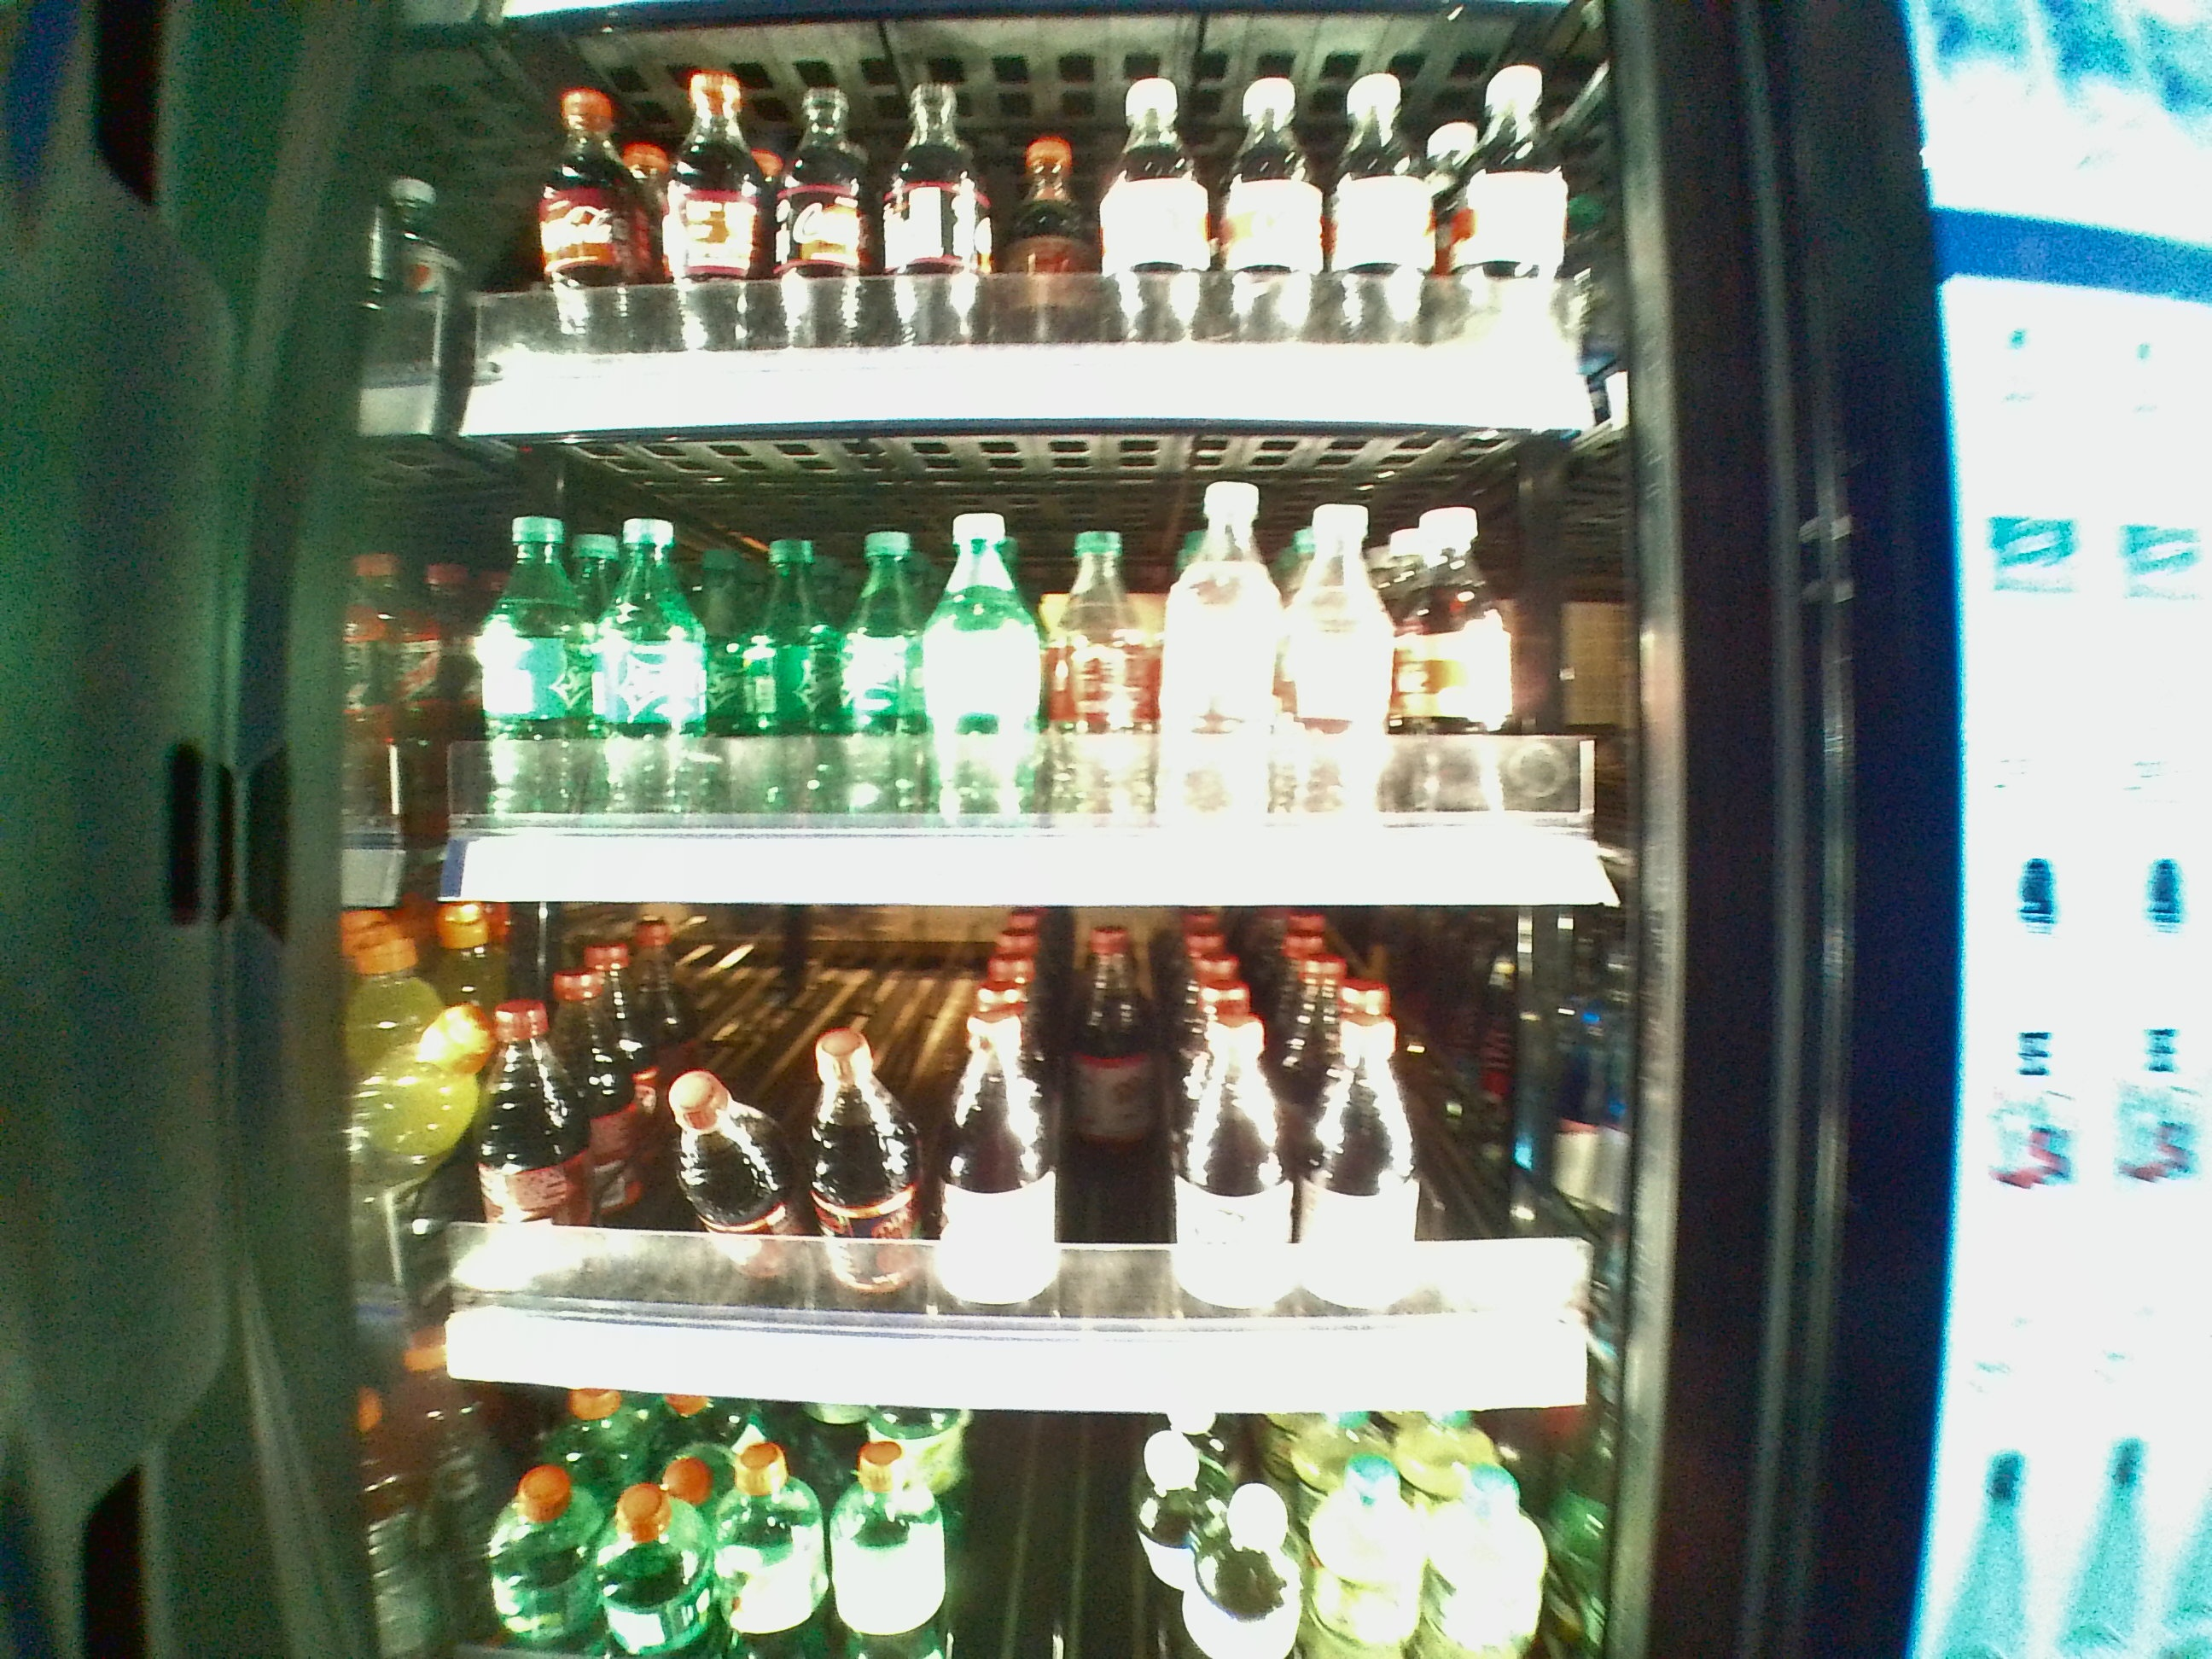Shelf: (435, 910, 1629, 1413), (435, 436, 1635, 913)
